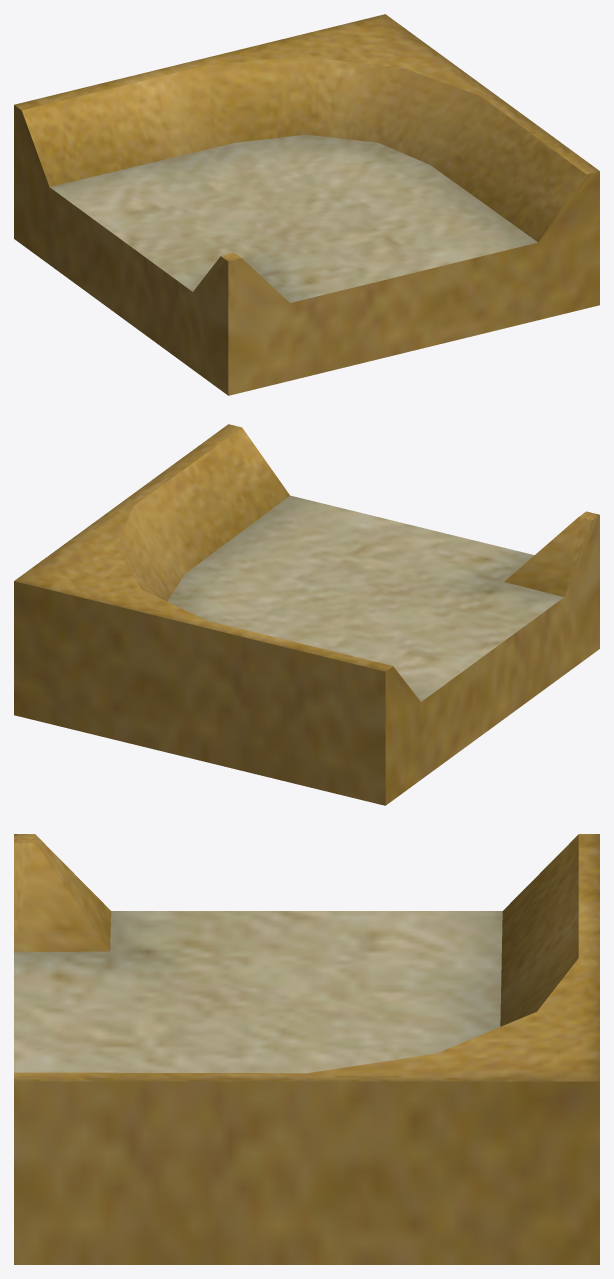
File: egy_tile_sw_corner.obj
3 renders of one model, top to bottom at view 1: azimuth 30°, elevation 25°; view 2: azimuth 150°, elevation 25°; view 3: azimuth 270°, elevation 25°, orthographic. The views are drawn at different scales.
Visible parts, largest first — view 1: tile_corner; view 2: tile_corner; view 3: tile_corner.
Boxes of the visible parts, x1,y1,x2,y2 form: tile_corner: (14,14,599,395); tile_corner: (14,424,599,805); tile_corner: (14,834,599,1264).
Size of the model in its own units: 1 by 0.345 by 1.
